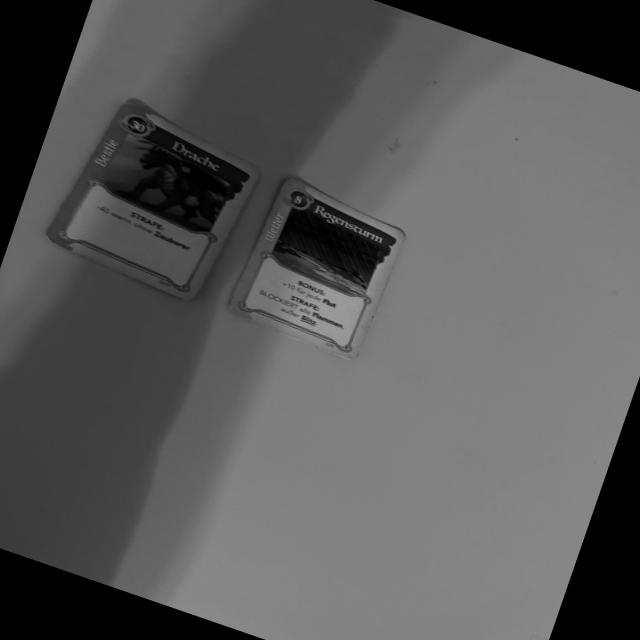Dragon: (41, 97, 265, 310)
Rainstorm: (228, 176, 413, 364)
